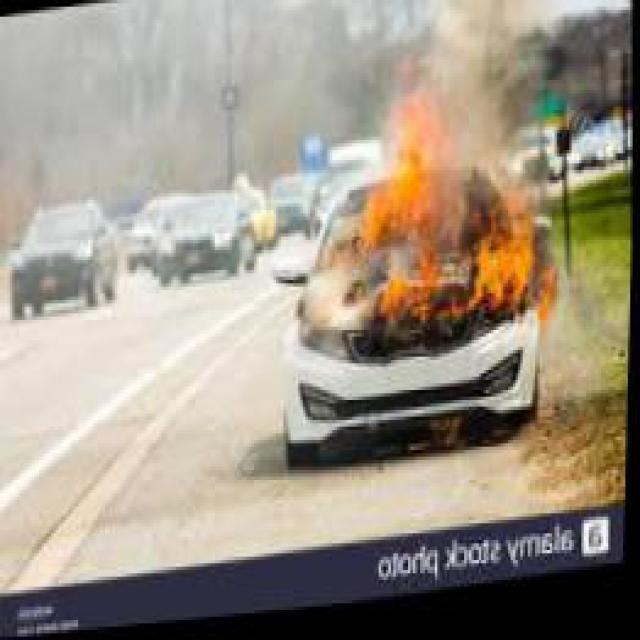Fire: (342, 86, 557, 354)
Smoke: (442, 0, 564, 163)
